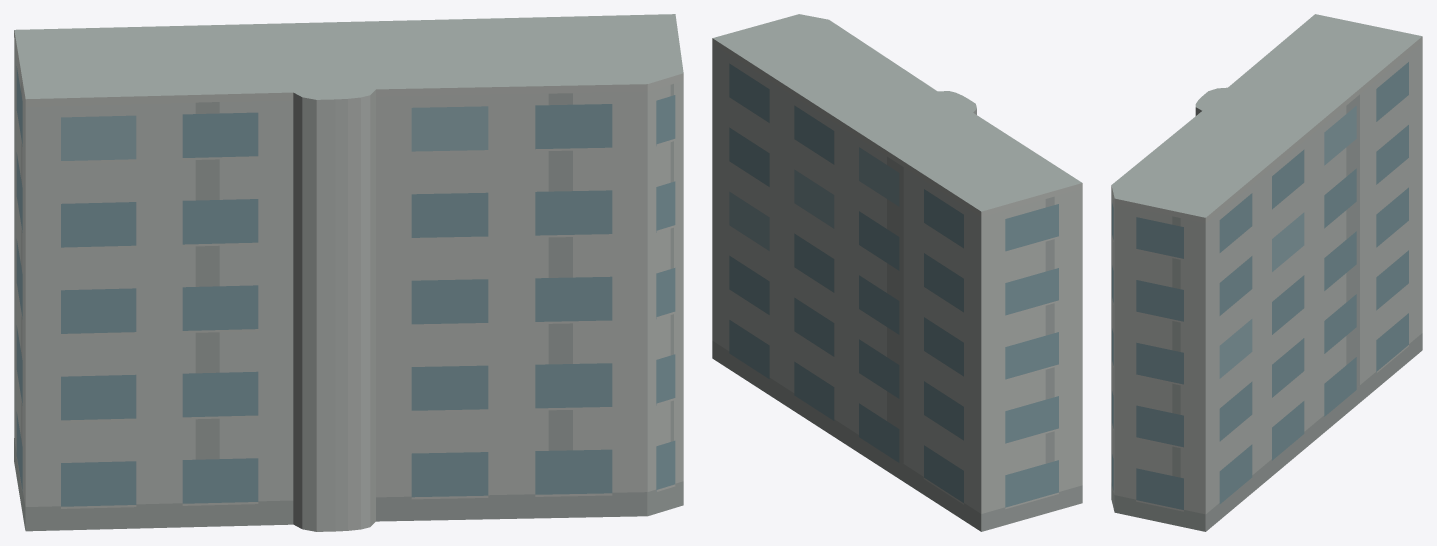
The model's file is survey-upis-32730430.glb.
The picture shows the model from 3 angles, left to right: view 1: azimuth 30°, elevation 25°; view 2: azimuth 150°, elevation 25°; view 3: azimuth 270°, elevation 25°; orthographic projection. The views are drawn at different scales.
Visible parts, largest first — view 1: survey-upis-32730430.tmp; view 2: survey-upis-32730430.tmp; view 3: survey-upis-32730430.tmp.
Part boxes in pixels (x1=…): survey-upis-32730430.tmp: x1=14, y1=14, x2=683, y2=531; survey-upis-32730430.tmp: x1=712, y1=14, x2=1082, y2=531; survey-upis-32730430.tmp: x1=1111, y1=14, x2=1422, y2=531.
Bounding box in the file's own units: 19.22 × 13.8 × 12.4.
